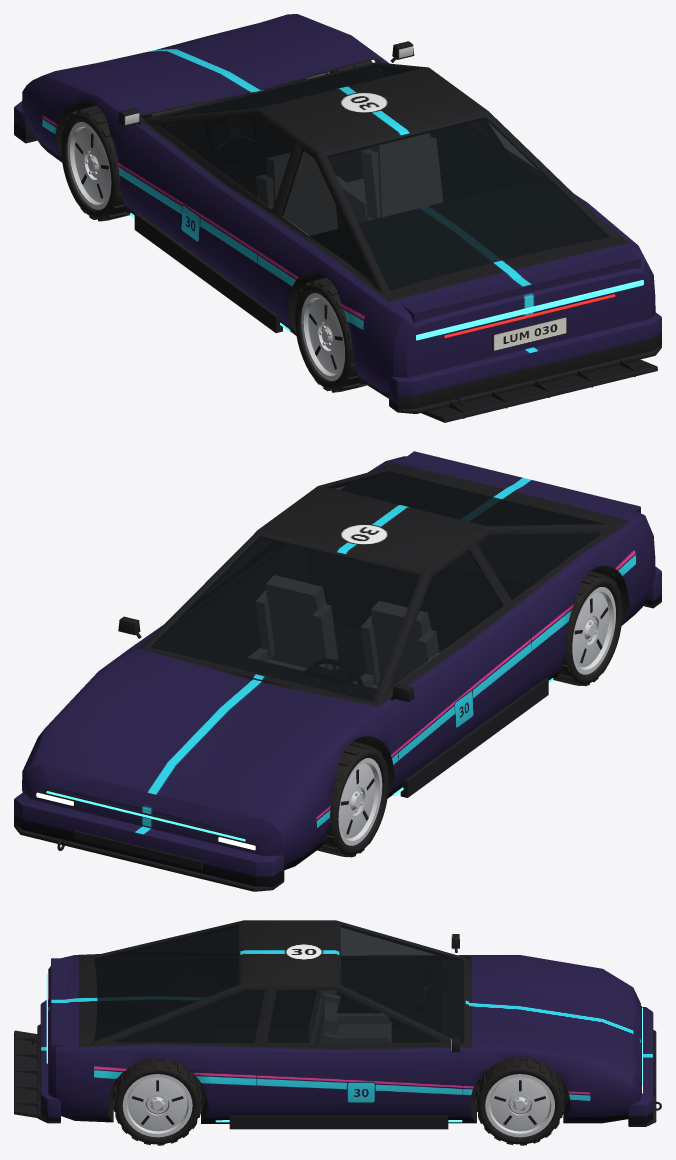
The model's file is CAR-030_Export.fbx.
3 renders of one model, top to bottom at view 1: azimuth 30°, elevation 25°; view 2: azimuth 150°, elevation 25°; view 3: azimuth 270°, elevation 25°, orthographic. The views are drawn at different scales.
Parts seen in each view (by area): view 1: CAR-030_Body, CAR-030_Glass, CAR-030_Bumper_Rear, CAR-030_Spoiler, CAR-030_Trim, CAR-030_Accessories, CAR-030_Wheel_FL_Rim, CAR-030_Wheel_RL_Rim, CAR-030_Wheel_FL_Tire, CAR-030_Wheel_RL_Tire, CAR-030_Lights, CAR-030_Mirrors; view 2: CAR-030_Body, CAR-030_Glass, CAR-030_Bumper_Front, CAR-030_Trim, CAR-030_Wheel_FL_Rim, CAR-030_Wheel_RL_Rim, CAR-030_Wheel_FL_Tire, CAR-030_Spoiler, CAR-030_Wheel_RL_Tire, CAR-030_Lights, CAR-030_Mirrors; view 3: CAR-030_Body, CAR-030_Glass, CAR-030_Trim, CAR-030_Wheel_RR_Rim, CAR-030_Wheel_FR_Rim, CAR-030_Wheel_FR_Tire, CAR-030_Wheel_RR_Tire, CAR-030_Accessories, CAR-030_Bumper_Front, CAR-030_Spoiler, CAR-030_Bumper_Rear, CAR-030_Lights.
Boxes of the visible parts, box(x1,y1,x2,y2) form: CAR-030_Body: box(22, 14, 655, 398); CAR-030_Glass: box(160, 65, 608, 290); CAR-030_Bumper_Rear: box(389, 312, 661, 413); CAR-030_Spoiler: box(400, 247, 640, 323); CAR-030_Trim: box(134, 212, 566, 406); CAR-030_Accessories: box(130, 213, 657, 422); CAR-030_Wheel_FL_Rim: box(67, 122, 111, 209); CAR-030_Wheel_RL_Rim: box(301, 293, 344, 380); CAR-030_Wheel_FL_Tire: box(61, 105, 130, 221); CAR-030_Wheel_RL_Tire: box(294, 277, 366, 392); CAR-030_Lights: box(416, 280, 643, 340); CAR-030_Mirrors: box(118, 41, 414, 126); CAR-030_Body: box(22, 456, 655, 870); CAR-030_Glass: box(151, 471, 604, 700); CAR-030_Bumper_Front: box(14, 792, 284, 891); CAR-030_Trim: box(57, 678, 548, 869); CAR-030_Wheel_FL_Rim: box(338, 758, 382, 845); CAR-030_Wheel_RL_Rim: box(572, 587, 615, 674); CAR-030_Wheel_FL_Tire: box(317, 741, 388, 857); CAR-030_Spoiler: box(400, 451, 640, 516); CAR-030_Wheel_RL_Tire: box(553, 571, 622, 686); CAR-030_Lights: box(35, 789, 257, 851); CAR-030_Mirrors: box(118, 616, 414, 701); CAR-030_Body: box(48, 920, 640, 1123); CAR-030_Glass: box(94, 925, 463, 1043); CAR-030_Trim: box(32, 1017, 661, 1129); CAR-030_Wheel_RR_Rim: box(122, 1074, 192, 1137); CAR-030_Wheel_FR_Rim: box(485, 1074, 554, 1137); CAR-030_Wheel_FR_Tire: box(475, 1057, 564, 1145); CAR-030_Wheel_RR_Tire: box(113, 1058, 202, 1145); CAR-030_Accessories: box(14, 1030, 462, 1122); CAR-030_Bumper_Front: box(628, 1007, 656, 1126); CAR-030_Spoiler: box(51, 958, 73, 1051); CAR-030_Bumper_Rear: box(37, 999, 60, 1123); CAR-030_Lights: box(46, 974, 642, 1095).
Size of the model in its own units: 2.05 by 1.24 by 5.09.
Materials: 15 (2 with a texture image).
